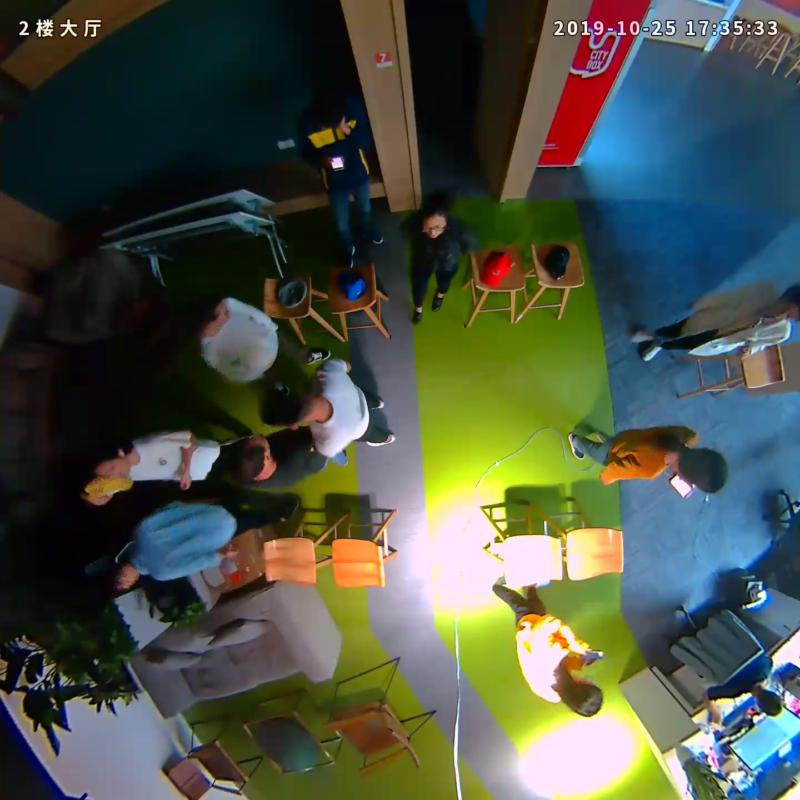head: (674, 446, 728, 494), (259, 387, 314, 429), (82, 440, 138, 476), (181, 293, 229, 334), (232, 434, 272, 483), (561, 674, 603, 718), (306, 82, 348, 119), (419, 193, 452, 238), (99, 562, 140, 593)
